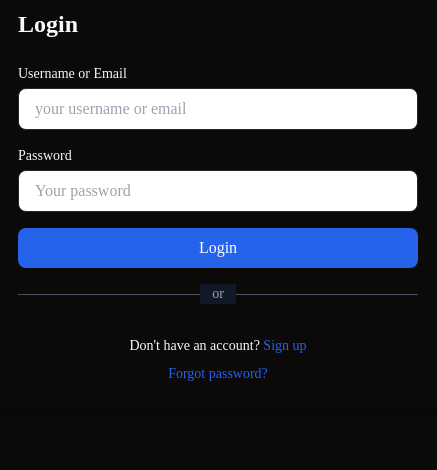
LoginPage › shows generic error on network failure
Type "testuser" into the field with placeholder "your username or email" at (218, 109), box [18,88,418,130]
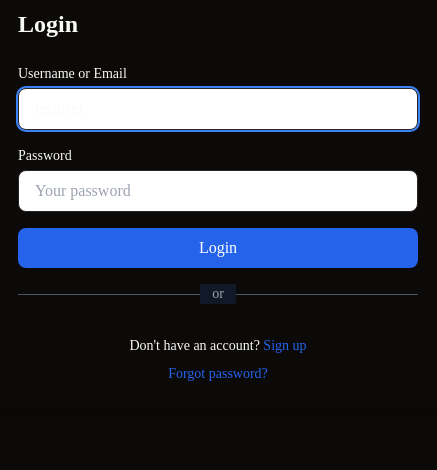
Type "Password1" into the password field with placeholder "Your password" at (218, 191), box [18,170,418,212]
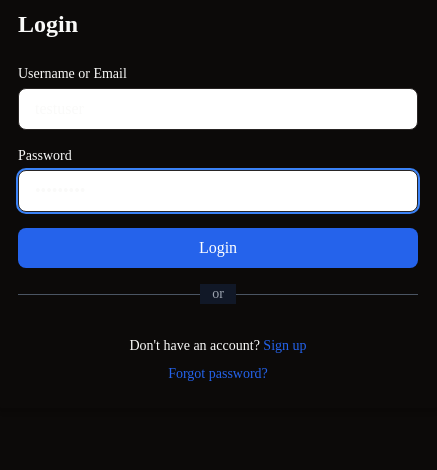
Click the button "Login" at (218, 248), box [18,228,418,268]
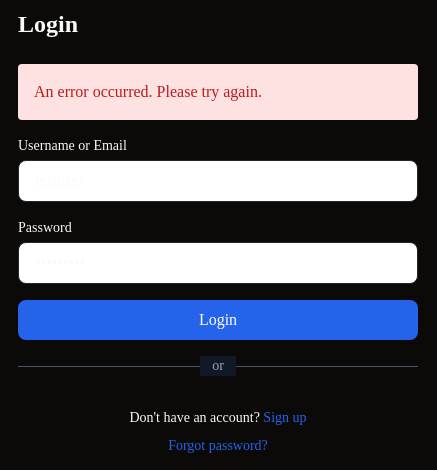
Expected: the text "An error occurred. Please try again." is shown, [18,64,418,120]
